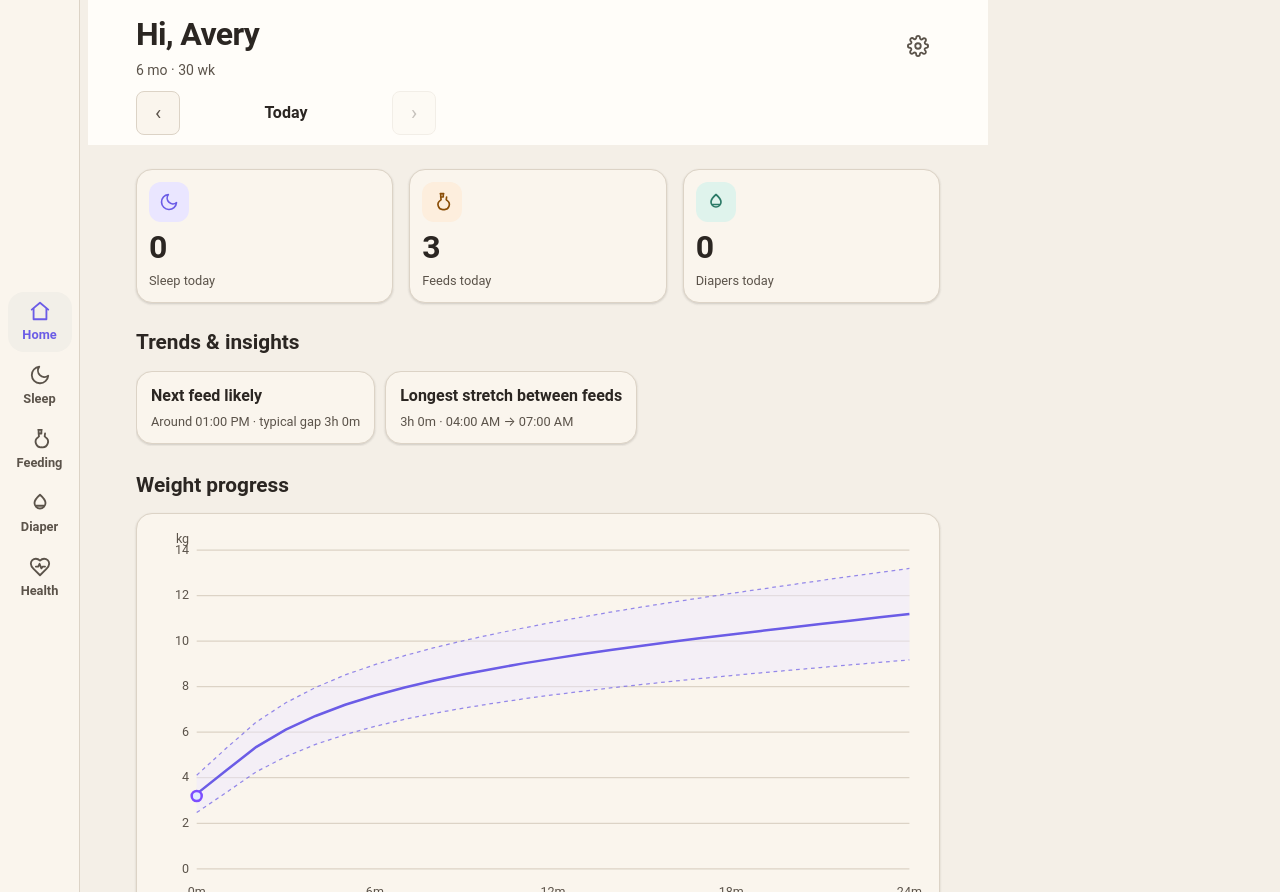
Test: Dashboard trends & insights › hides the section when viewing a past day
Check: the heading "Hi, Avery" is shown, box 136,10 -> 259,58
Check: the heading "Trends & insights" is shown, box 136,330 -> 300,354
Click the button named "previous day" at (158, 113), box 136,91 -> 180,135
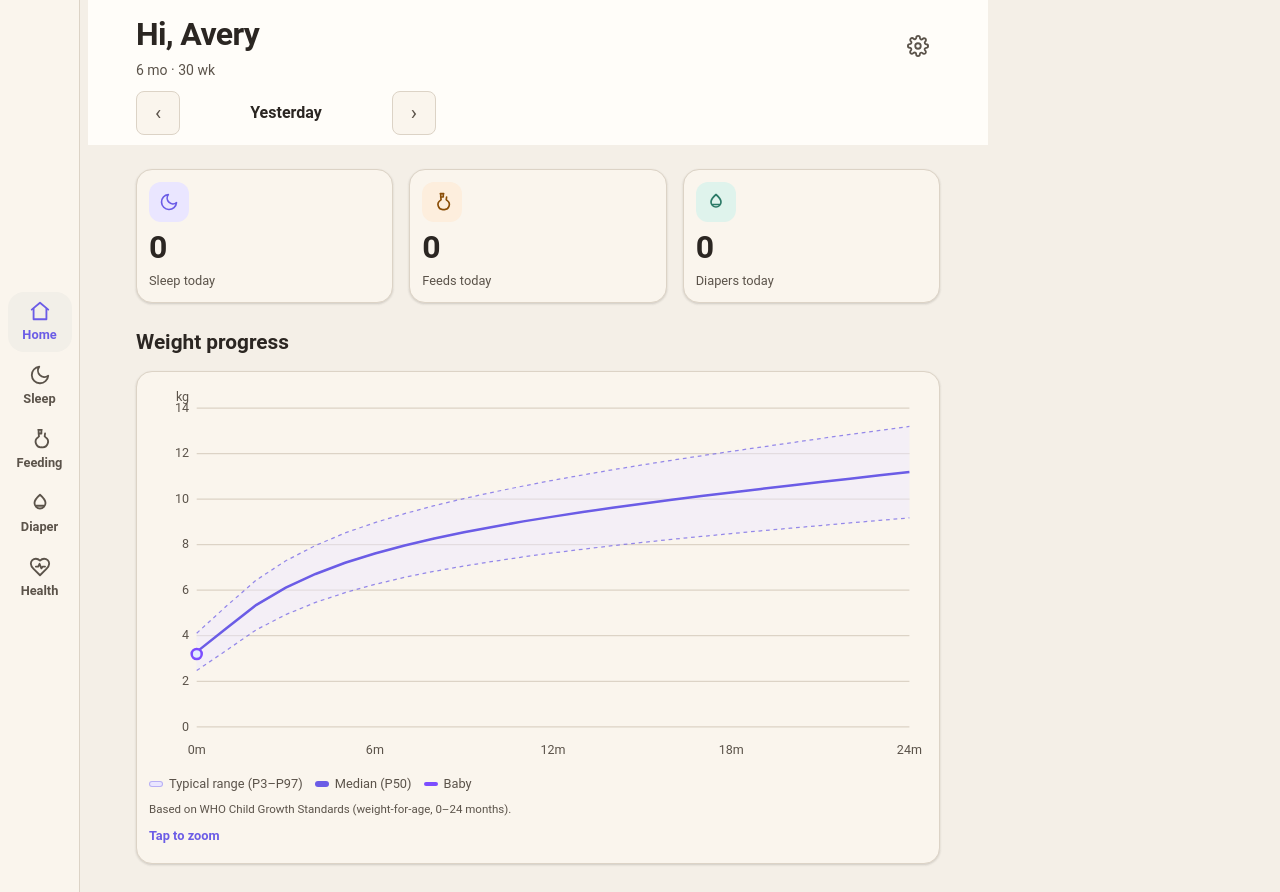
Check: the heading "Trends & insights" is gone
